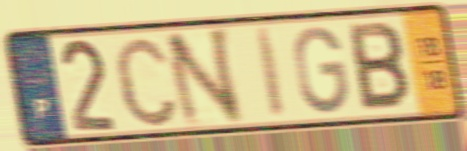2: (60, 36, 118, 133)
B: (345, 20, 412, 115)
C: (110, 32, 181, 131)
G: (292, 23, 351, 117)
I: (253, 25, 289, 121)
N: (161, 23, 247, 132)
